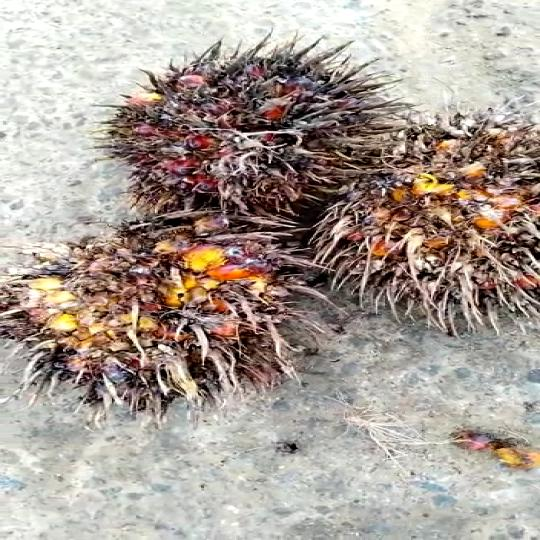terlalu masak: (80, 33, 408, 237), (0, 229, 334, 420), (310, 122, 540, 335)
